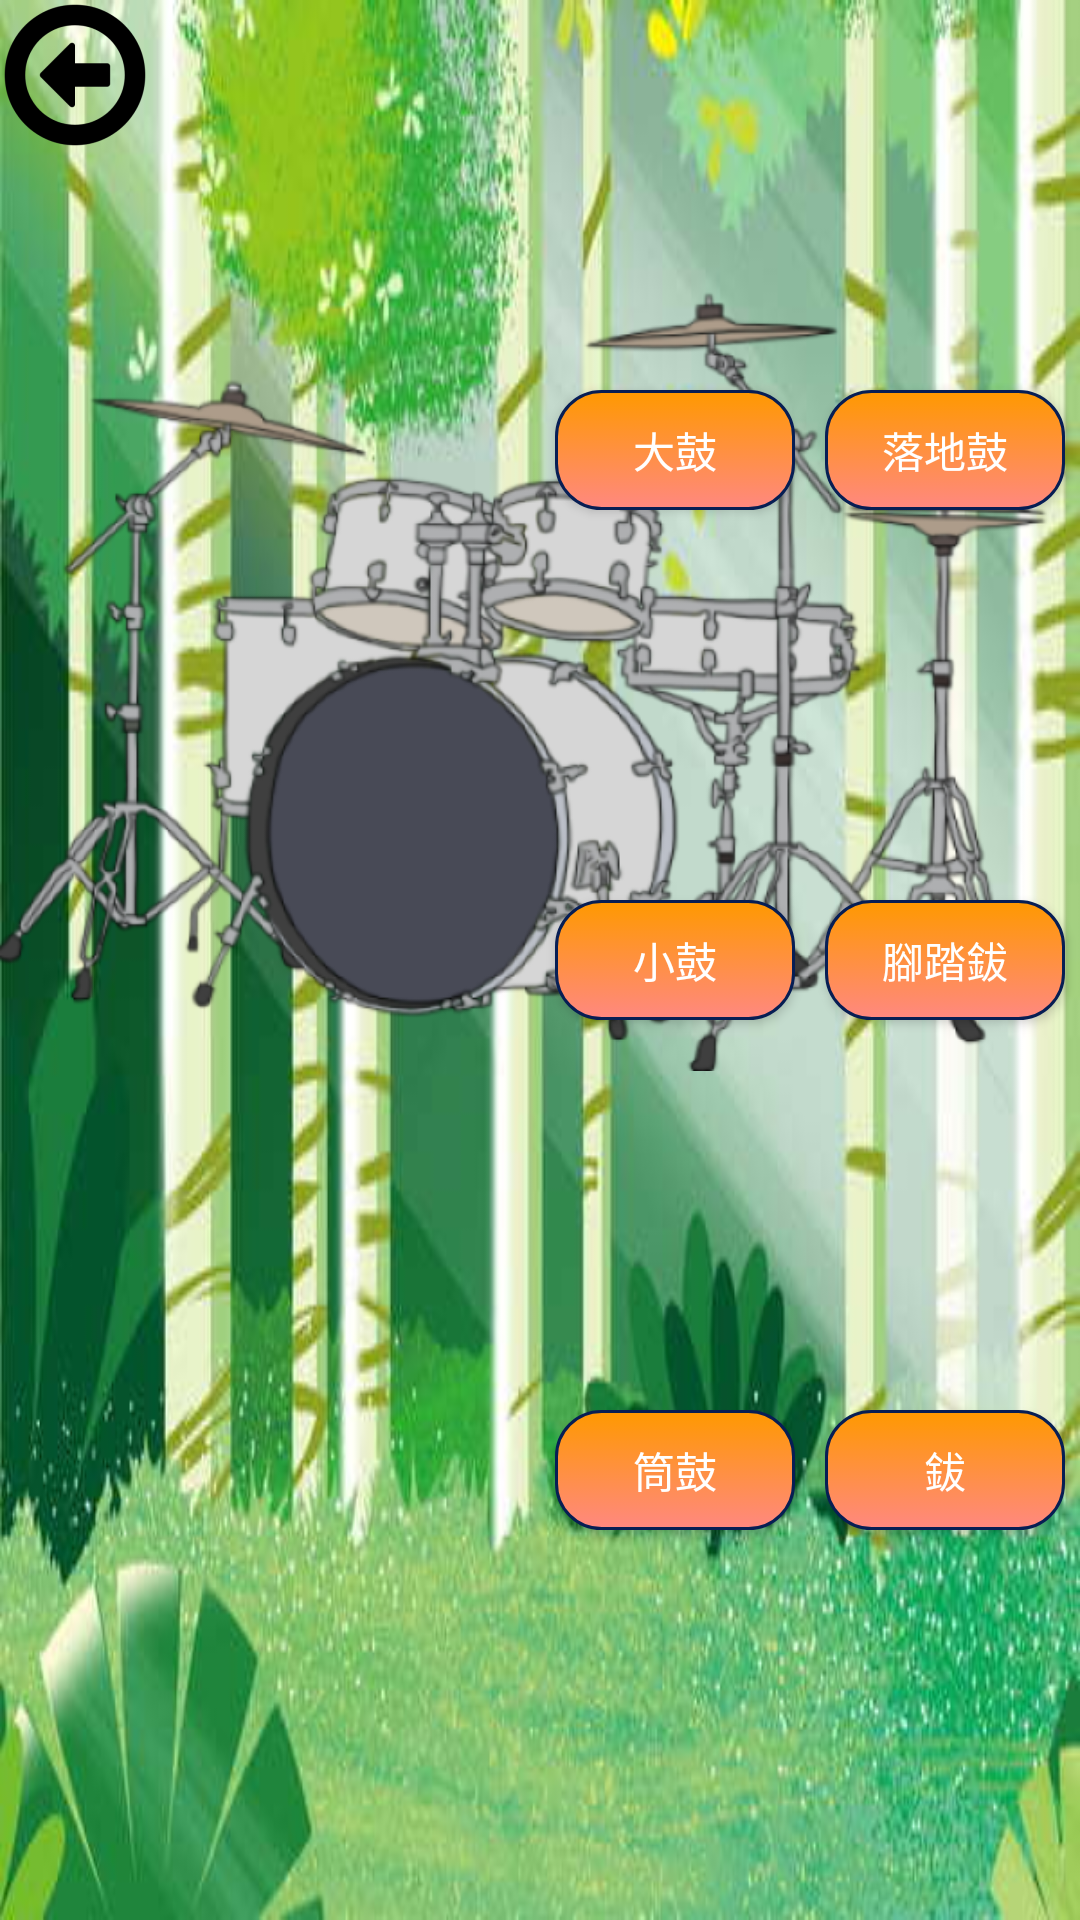

Icon click points for this 1080*1920 phone screenshot, format point (x, y):
backbutton: point (75, 75)
